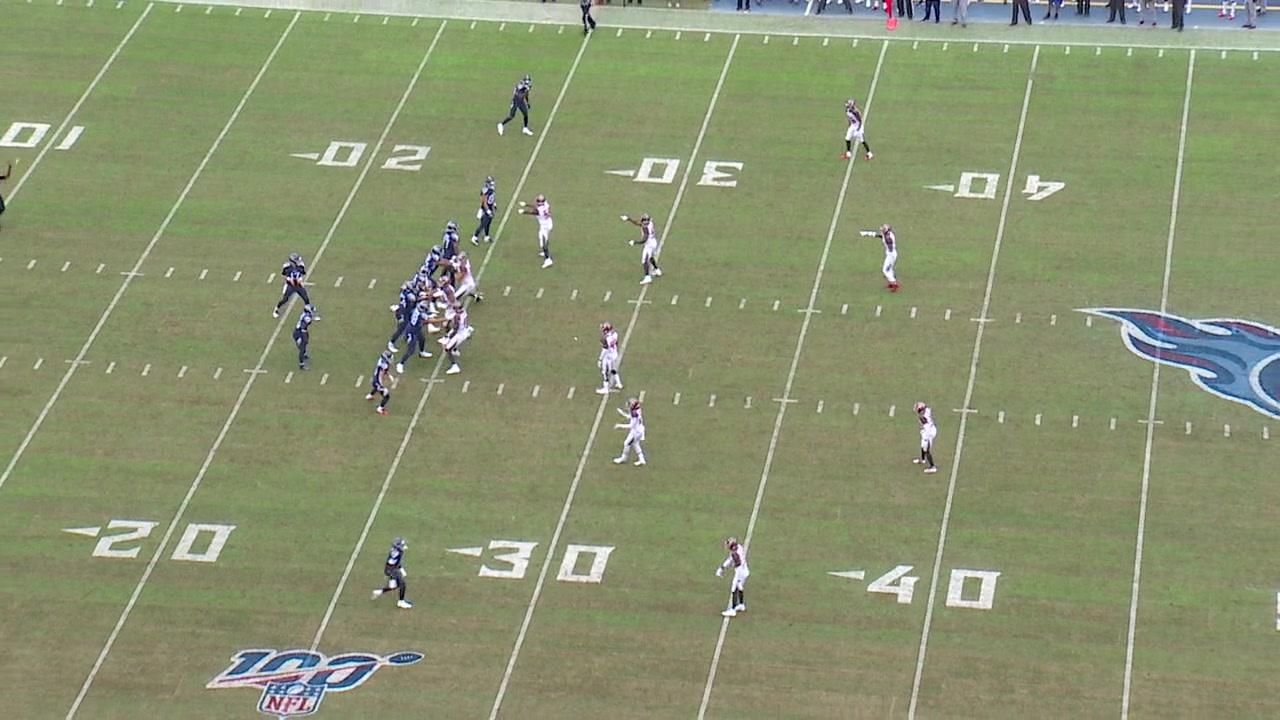defense: (516, 193, 556, 270), (717, 534, 752, 621), (626, 206, 661, 291), (586, 320, 626, 394), (610, 396, 648, 469), (436, 274, 474, 347), (866, 223, 905, 294), (842, 98, 876, 166), (442, 302, 471, 375), (912, 400, 939, 476), (449, 249, 483, 307)
oline: (395, 300, 457, 375), (385, 280, 443, 356), (419, 242, 459, 308), (411, 263, 441, 335), (439, 219, 461, 291)
qb: (271, 251, 323, 323)
skill: (367, 534, 414, 611), (492, 70, 541, 142), (363, 348, 398, 418), (470, 175, 500, 249), (293, 303, 317, 370)
